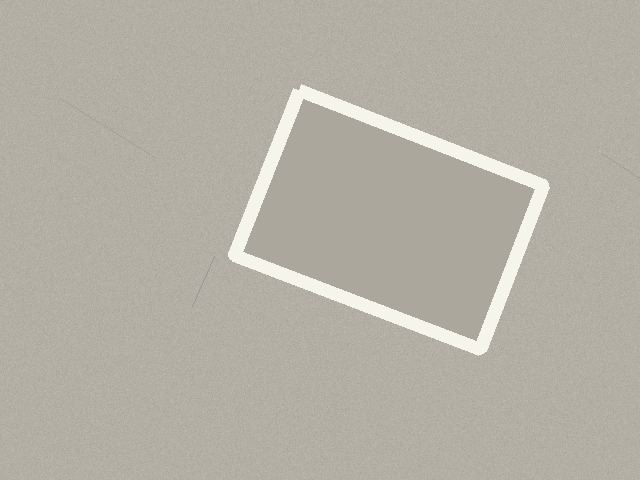parking_area: (234, 90, 543, 349)
